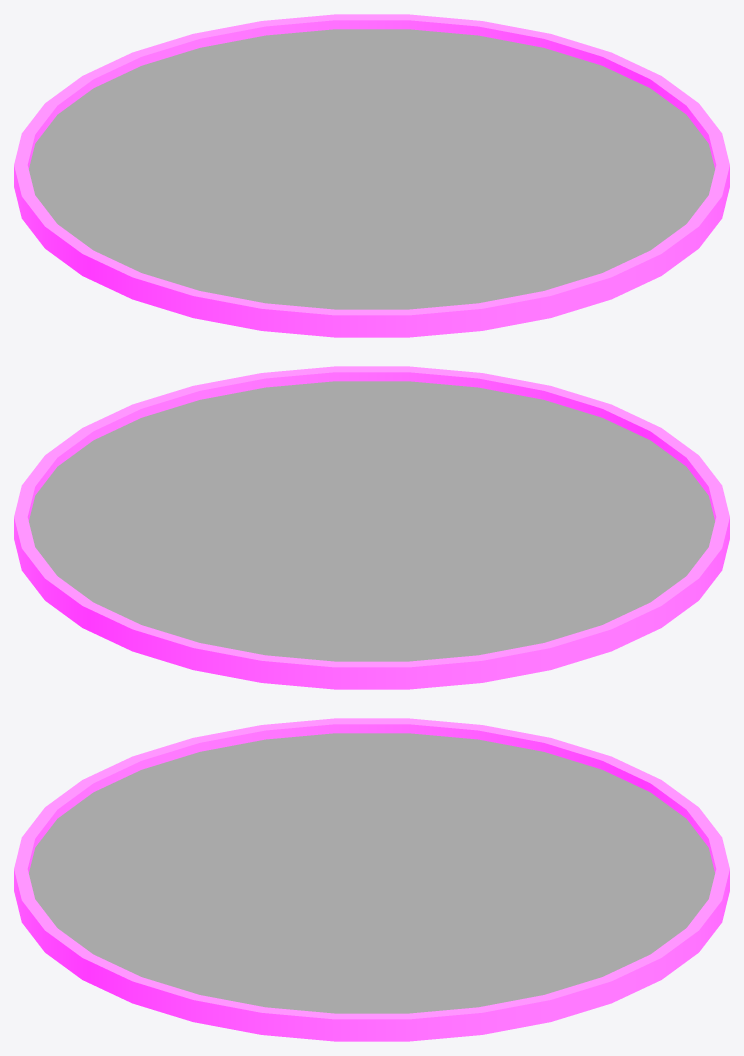
Rendered from SFI0510011.fbx.
The picture shows the model from 3 angles, top to bottom: view 1: azimuth 30°, elevation 25°; view 2: azimuth 150°, elevation 25°; view 3: azimuth 270°, elevation 25°; orthographic projection.
Parts seen in each view (by area): view 1: smSFI0510011; view 2: smSFI0510011; view 3: smSFI0510011.
Part boxes in pixels (x1=…): smSFI0510011: x1=14, y1=14, x2=729, y2=337; smSFI0510011: x1=14, y1=366, x2=729, y2=689; smSFI0510011: x1=14, y1=718, x2=729, y2=1041.
Size of the model in its own units: 199 by 6.83 by 200.
